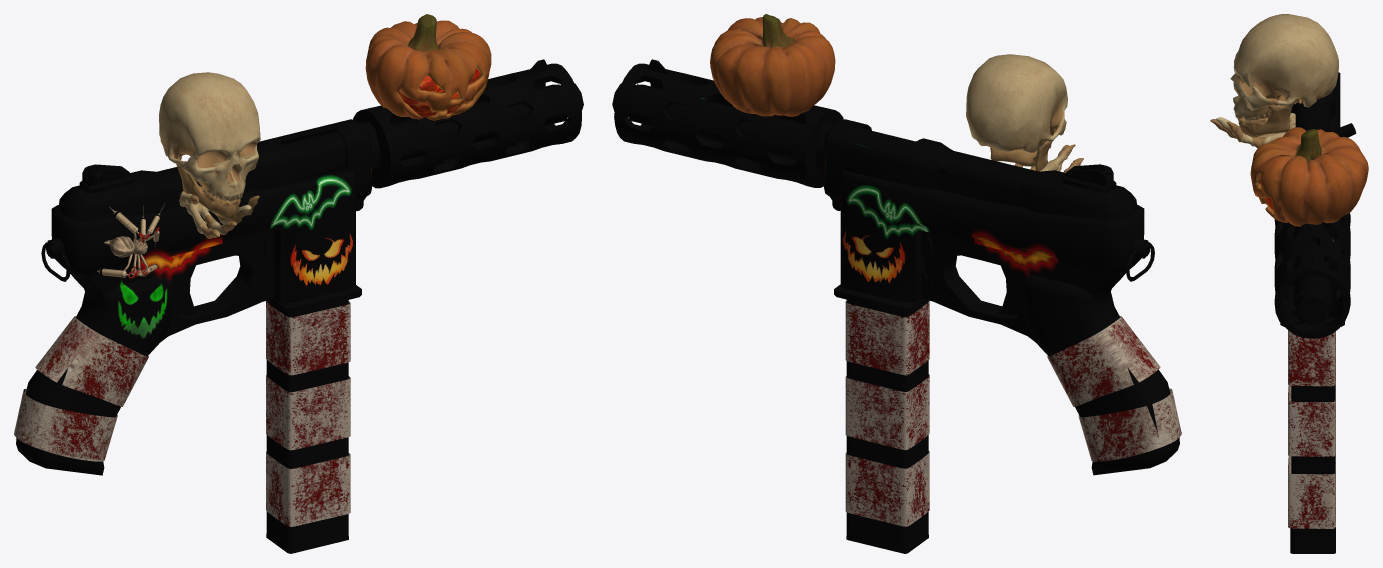
The model's file is WEAPON_TEC9_HALLOWEEN.glb.
3 renders of one model, left to right at view 1: azimuth 30°, elevation 25°; view 2: azimuth 150°, elevation 25°; view 3: azimuth 270°, elevation 25°, orthographic. The views are drawn at different scales.
Visible parts, largest first — view 1: AAPCamo.003; view 2: AAPCamo.003; view 3: AAPCamo.003.
Part boxes in pixels (left/top/right/bottom): AAPCamo.003: left=14, top=14, right=583, bottom=553; AAPCamo.003: left=612, top=14, right=1181, bottom=553; AAPCamo.003: left=1210, top=14, right=1368, bottom=553.
Size of the model in its own units: 0.3115 by 0.2649 by 0.0814.
Materials: 9 (9 with a texture image).
